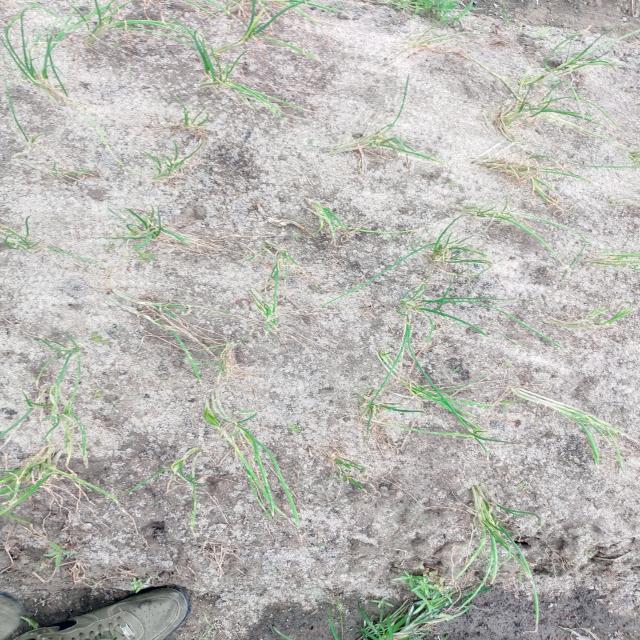Spring Onion: (544, 398, 626, 451), (470, 88, 534, 143), (408, 225, 479, 271), (323, 122, 381, 178), (21, 436, 83, 486), (479, 136, 539, 186), (227, 0, 287, 46), (0, 211, 47, 269), (447, 419, 510, 461), (368, 344, 426, 389), (184, 45, 236, 93), (119, 204, 174, 249), (457, 474, 508, 521), (5, 64, 68, 102), (196, 389, 242, 441), (236, 272, 283, 322), (100, 286, 161, 324), (497, 383, 562, 418), (162, 452, 211, 498), (142, 148, 195, 190), (31, 378, 78, 424), (472, 200, 530, 236), (288, 189, 348, 223), (39, 327, 91, 365), (517, 58, 566, 98), (78, 5, 121, 50), (388, 283, 436, 320), (39, 536, 83, 568), (579, 240, 609, 276), (540, 306, 575, 336)
